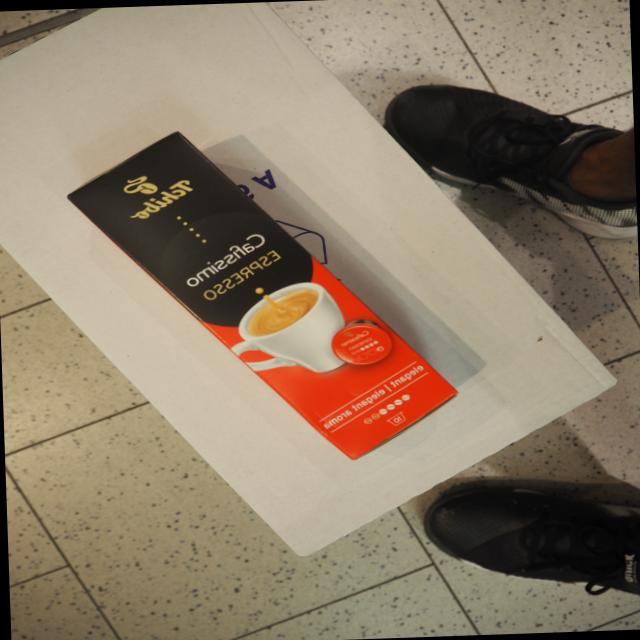Simo Es Elegant: (60, 128, 465, 466)
